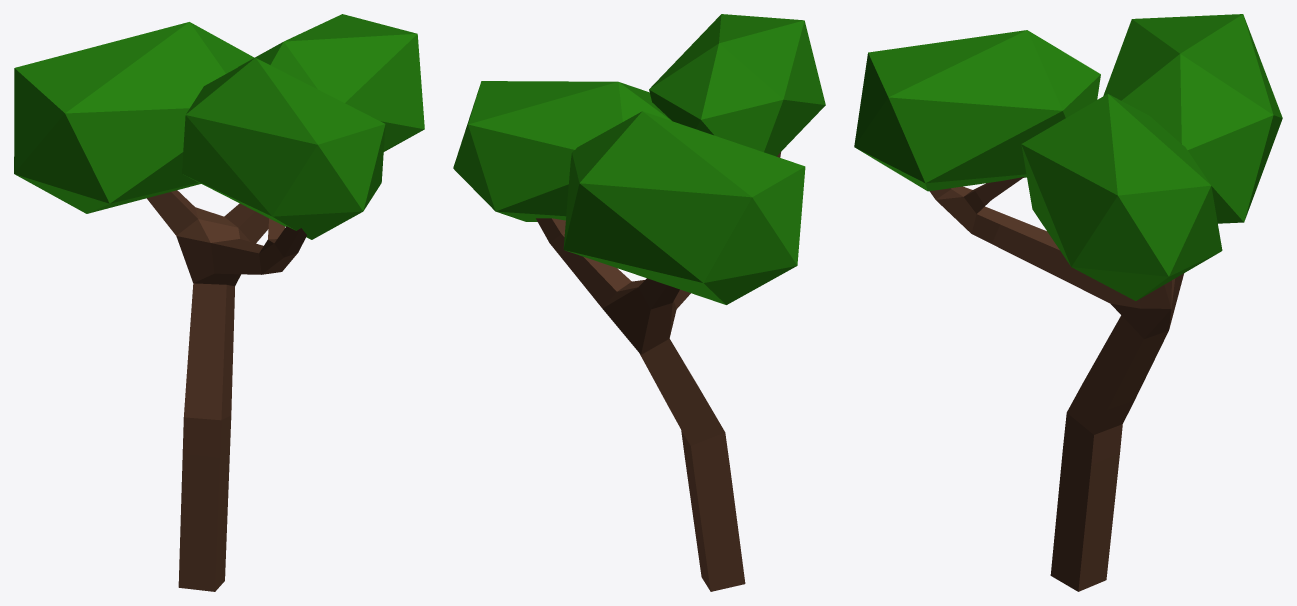
Rendered from Tree_VAR2_v002.fbx.
3 views of the same model, side by side, from view 1: azimuth 30°, elevation 25°; view 2: azimuth 150°, elevation 25°; view 3: azimuth 270°, elevation 25° (orthographic). The views are drawn at different scales.
Visible parts, largest first — view 1: Icosphere.008; view 2: Icosphere.008; view 3: Icosphere.008.
Part boxes in pixels (box(x1,y1,x2,y2)): Icosphere.008: box(14, 14, 424, 591); Icosphere.008: box(453, 14, 825, 591); Icosphere.008: box(854, 14, 1282, 591).
Bounding box in the file's own units: 1.71 × 2.37 × 1.63.
